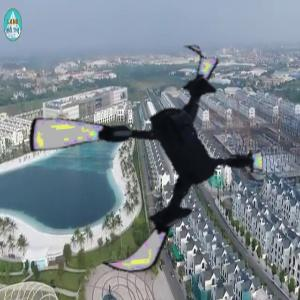drone: (30, 44, 262, 276)
